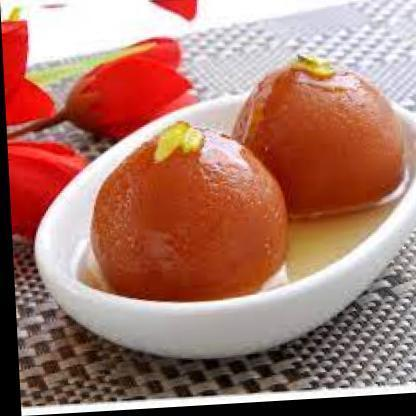gulab_jamun: (84, 127, 287, 308), (227, 62, 404, 226)
